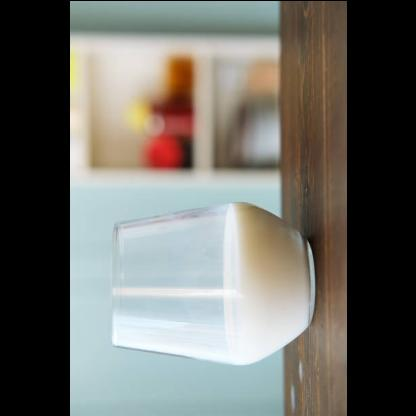milk: (220, 200, 314, 366)
